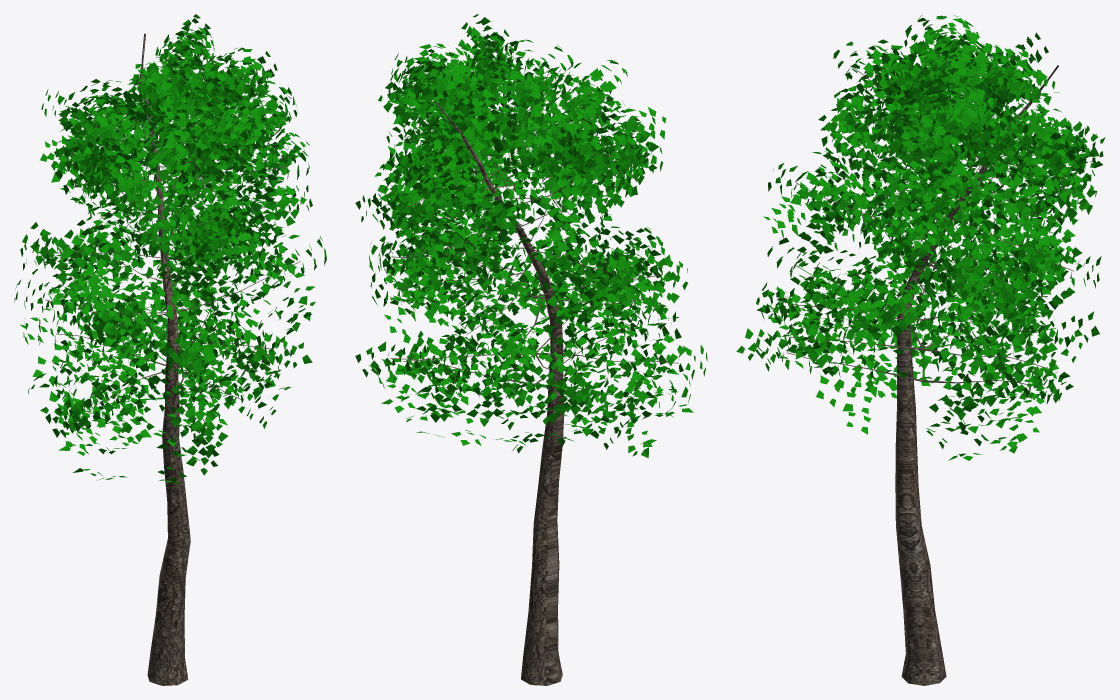
Rendered from drzewo_v2.FBX.
The picture shows the model from 3 angles, left to right: view 1: azimuth 30°, elevation 25°; view 2: azimuth 150°, elevation 25°; view 3: azimuth 270°, elevation 25°; orthographic projection. The views are drawn at different scales.
Parts seen in each view (by area): view 1: QAP0001B, QAP0022F, QAP0027F, QAP0028F, QAP0017F, QAP0035F, QAP0040F, QAP0003F, QAP0025F, QAP0033F, QAP0012F, QAP0034F (+32 smaller); view 2: QAP0001B, QAP0028F, QAP0022F, QAP0004F, QAP0014F, QAP0033F, QAP0031F, QAP0018F, QAP0040F, QAP0044F, QAP0008F, QAP0045F (+32 smaller); view 3: QAP0001B, QAP0027F, QAP0020F, QAP0035F, QAP0003F, QAP0044F, QAP0026F, QAP0038F, QAP0017F, QAP0014F, QAP0023F, QAP0004F (+31 smaller).
Part boxes in pixels (x1,y1,x2,y2): QAP0001B: (139,33,190,685); QAP0022F: (78,148,202,277); QAP0027F: (172,199,282,306); QAP0028F: (20,203,141,303); QAP0017F: (158,107,276,219); QAP0035F: (162,290,312,404); QAP0040F: (53,330,156,455); QAP0003F: (161,57,267,117); QAP0025F: (166,165,312,274); QAP0033F: (14,249,150,370); QAP0012F: (68,93,186,186); QAP0034F: (67,266,177,381); QAP0001B: (434,101,564,685); QAP0028F: (529,208,645,319); QAP0022F: (524,106,666,253); QAP0004F: (388,60,501,125); QAP0014F: (376,140,507,249); QAP0033F: (543,247,679,370); QAP0031F: (444,247,540,363); QAP0018F: (455,142,551,273); QAP0040F: (563,298,707,430); QAP0044F: (355,330,533,445); QAP0008F: (383,81,495,199); QAP0045F: (536,331,690,458); QAP0001B: (895,65,1058,685); QAP0027F: (763,151,908,254); QAP0020F: (944,135,1077,250); QAP0035F: (756,250,914,376); QAP0003F: (874,46,981,114); QAP0044F: (926,330,1062,460); QAP0026F: (931,225,1041,331); QAP0038F: (926,283,1073,431); QAP0017F: (831,86,956,208); QAP0014F: (984,120,1096,221); QAP0023F: (950,171,1074,298); QAP0004F: (962,52,1055,124).
Size of the model in its own units: 179 by 362 by 185.
2 materials, 1 textured.
